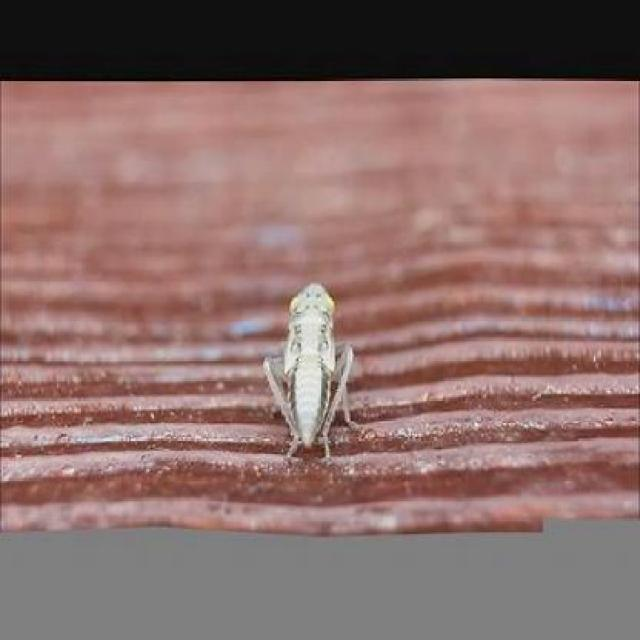green-leafhopper: (263, 278, 366, 462)
